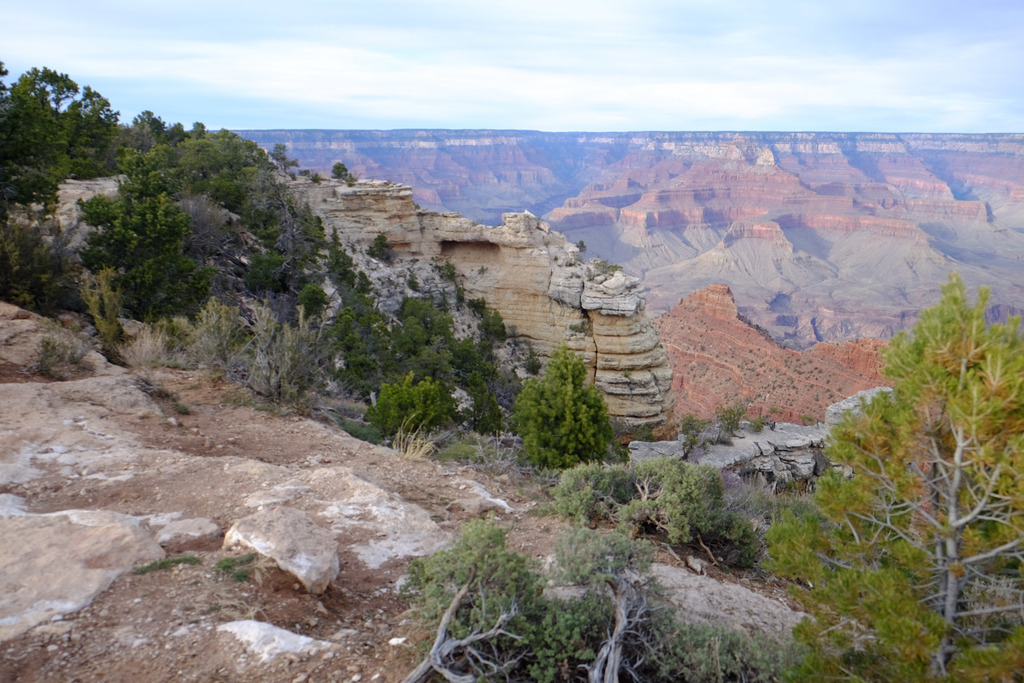Tree: (750, 272, 1023, 682), (389, 513, 724, 682), (72, 155, 228, 324), (0, 57, 128, 216), (545, 465, 723, 547), (514, 336, 614, 470)
